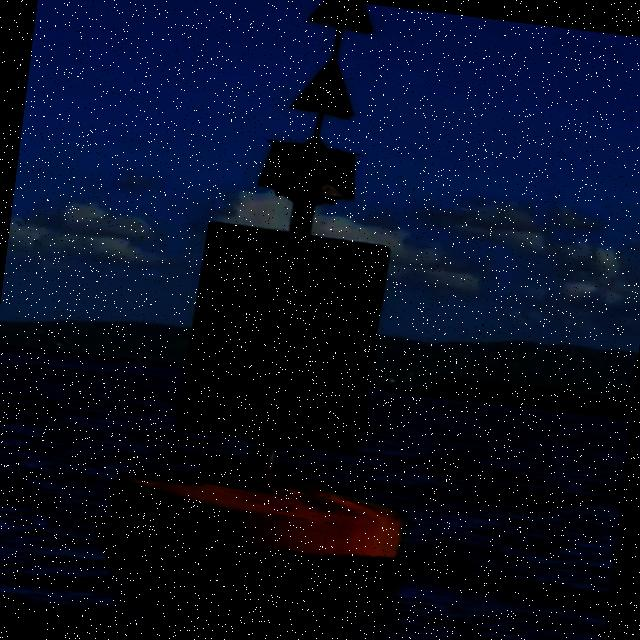marque: (98, 1, 480, 579)
